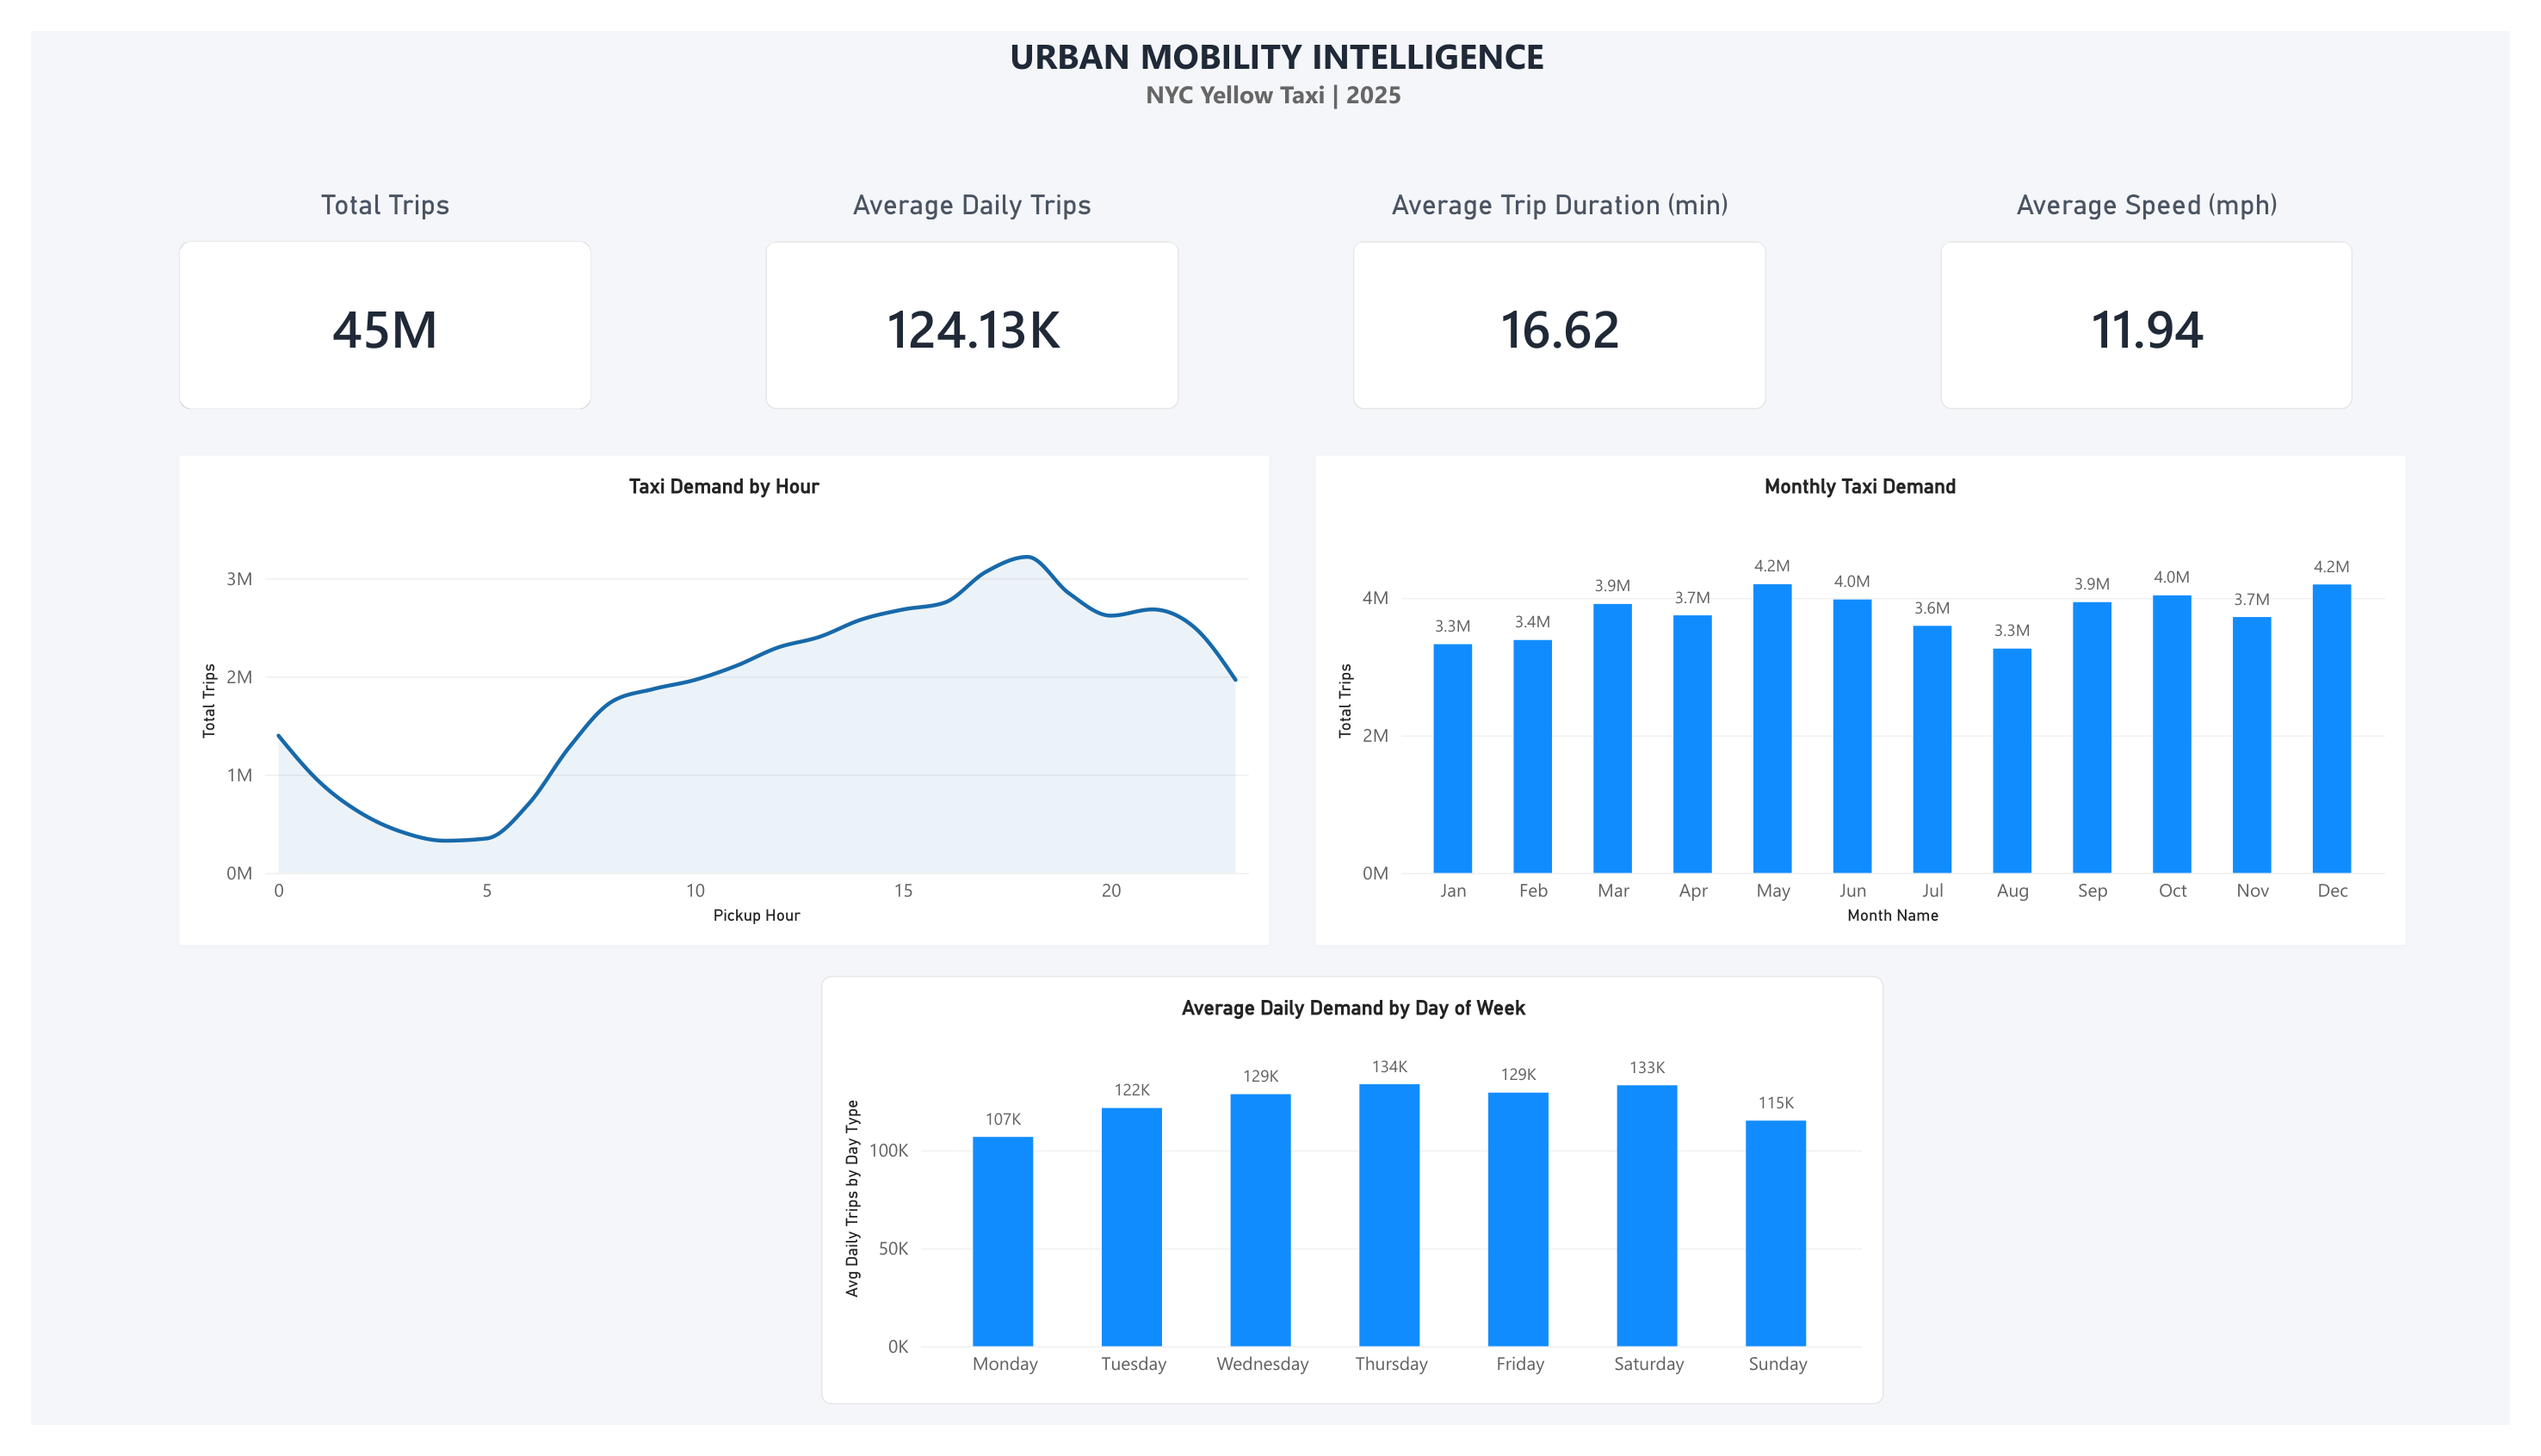

Layout of this report page (visuals, bound fields, positions):
{"tool":"powerbi","page":{"name":"Executive Overview","canvas":[1920,1080],"ordinal":0},"visuals":[{"type":"textbox","box":[9.8,0,1910.4,85.4],"z":0},{"type":"cardVisual","title":"Total Trips","fields":{"Data":["pbi_hourly.Total Trips"]},"box":[114.7,122,319.6,170.8],"z":1000},{"type":"cardVisual","title":"Average Daily Trips","fields":{"Data":["pbi_hourly.Average Daily Trips"]},"box":[569.3,122,319.6,170.8],"z":2000},{"type":"cardVisual","title":"Average Trip Duration (min)","fields":{"Data":["pbi_hourly.Average Trip Duration"]},"box":[1023.9,122,319.6,170.8],"z":3000},{"type":"cardVisual","title":"Average Speed (mph)","fields":{"Data":["pbi_hourly.Average Speed"]},"box":[1478.5,122,319.6,170.8],"z":4000},{"type":"lineChart","title":"Taxi Demand by Hour","fields":{"Category":["pbi_hourly.pickup_hour"],"Y":["pbi_hourly.Total Trips"]},"box":[114.7,329.4,844.2,378.2],"z":5000},{"type":"clusteredColumnChart","title":"Monthly Taxi Demand","fields":{"Y":["Sum(pbi_monthly.total_trips)"],"Category":["pbi_monthly.Month Name"]},"box":[995.4,329.4,844,378.2],"z":6000},{"type":"clusteredColumnChart","title":"Average Daily Demand by Day of Week","fields":{"Category":["pbi_daily.day_name"],"Y":["pbi_daily.Avg Daily Trips by Day Type"]},"box":[612.4,731.9,822.2,331.8],"z":7000}]}

Visuals, with their boxes in screenshot pixels (x1, y1, x2, y2), scaled from the page's 1920x1080 canvas onto the 2541x1456 screenshot:
textbox: bbox=(13, 0, 2540, 115)
"Total Trips" cardVisual: bbox=(151, 164, 575, 395)
"Average Daily Trips" cardVisual: bbox=(753, 164, 1177, 395)
"Average Trip Duration (min)" cardVisual: bbox=(1355, 164, 1778, 395)
"Average Speed (mph)" cardVisual: bbox=(1957, 164, 2380, 395)
"Taxi Demand by Hour" lineChart: bbox=(151, 444, 1269, 954)
"Monthly Taxi Demand" clusteredColumnChart: bbox=(1317, 444, 2434, 954)
"Average Daily Demand by Day of Week" clusteredColumnChart: bbox=(811, 987, 1899, 1434)
